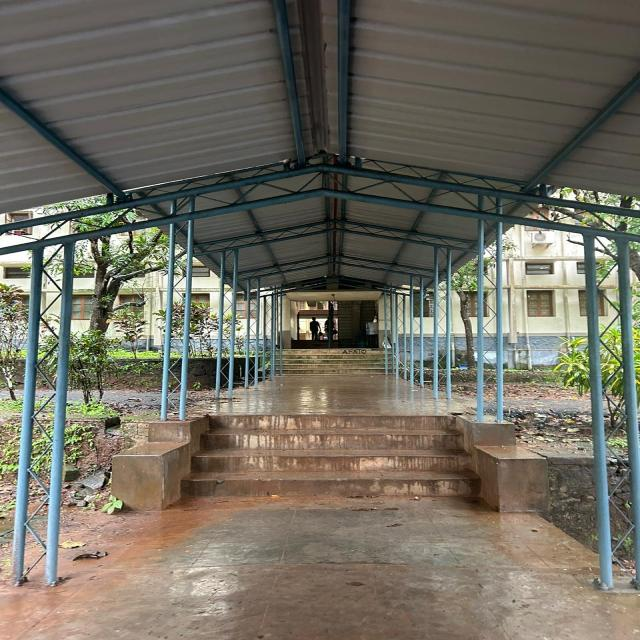pillar ahead at: (566, 225, 640, 594), (12, 244, 89, 594), (153, 194, 205, 424), (469, 190, 507, 424)
stairs ahead at: (190, 412, 479, 501)
